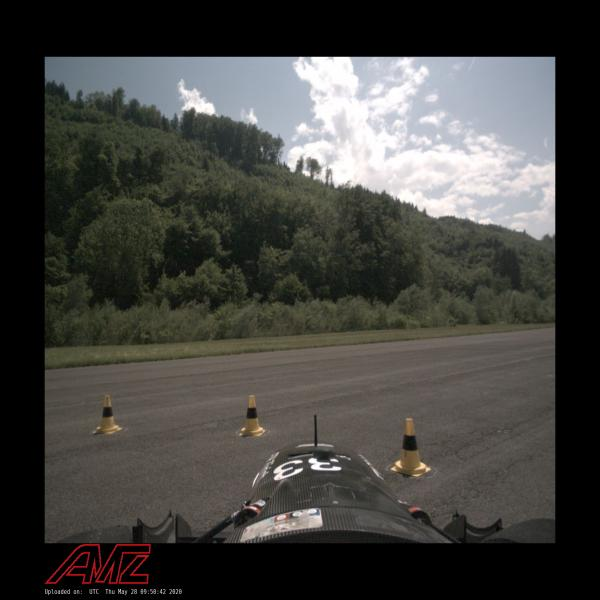yellow_cone: (391, 418, 431, 477), (92, 396, 122, 436), (239, 396, 265, 436)
